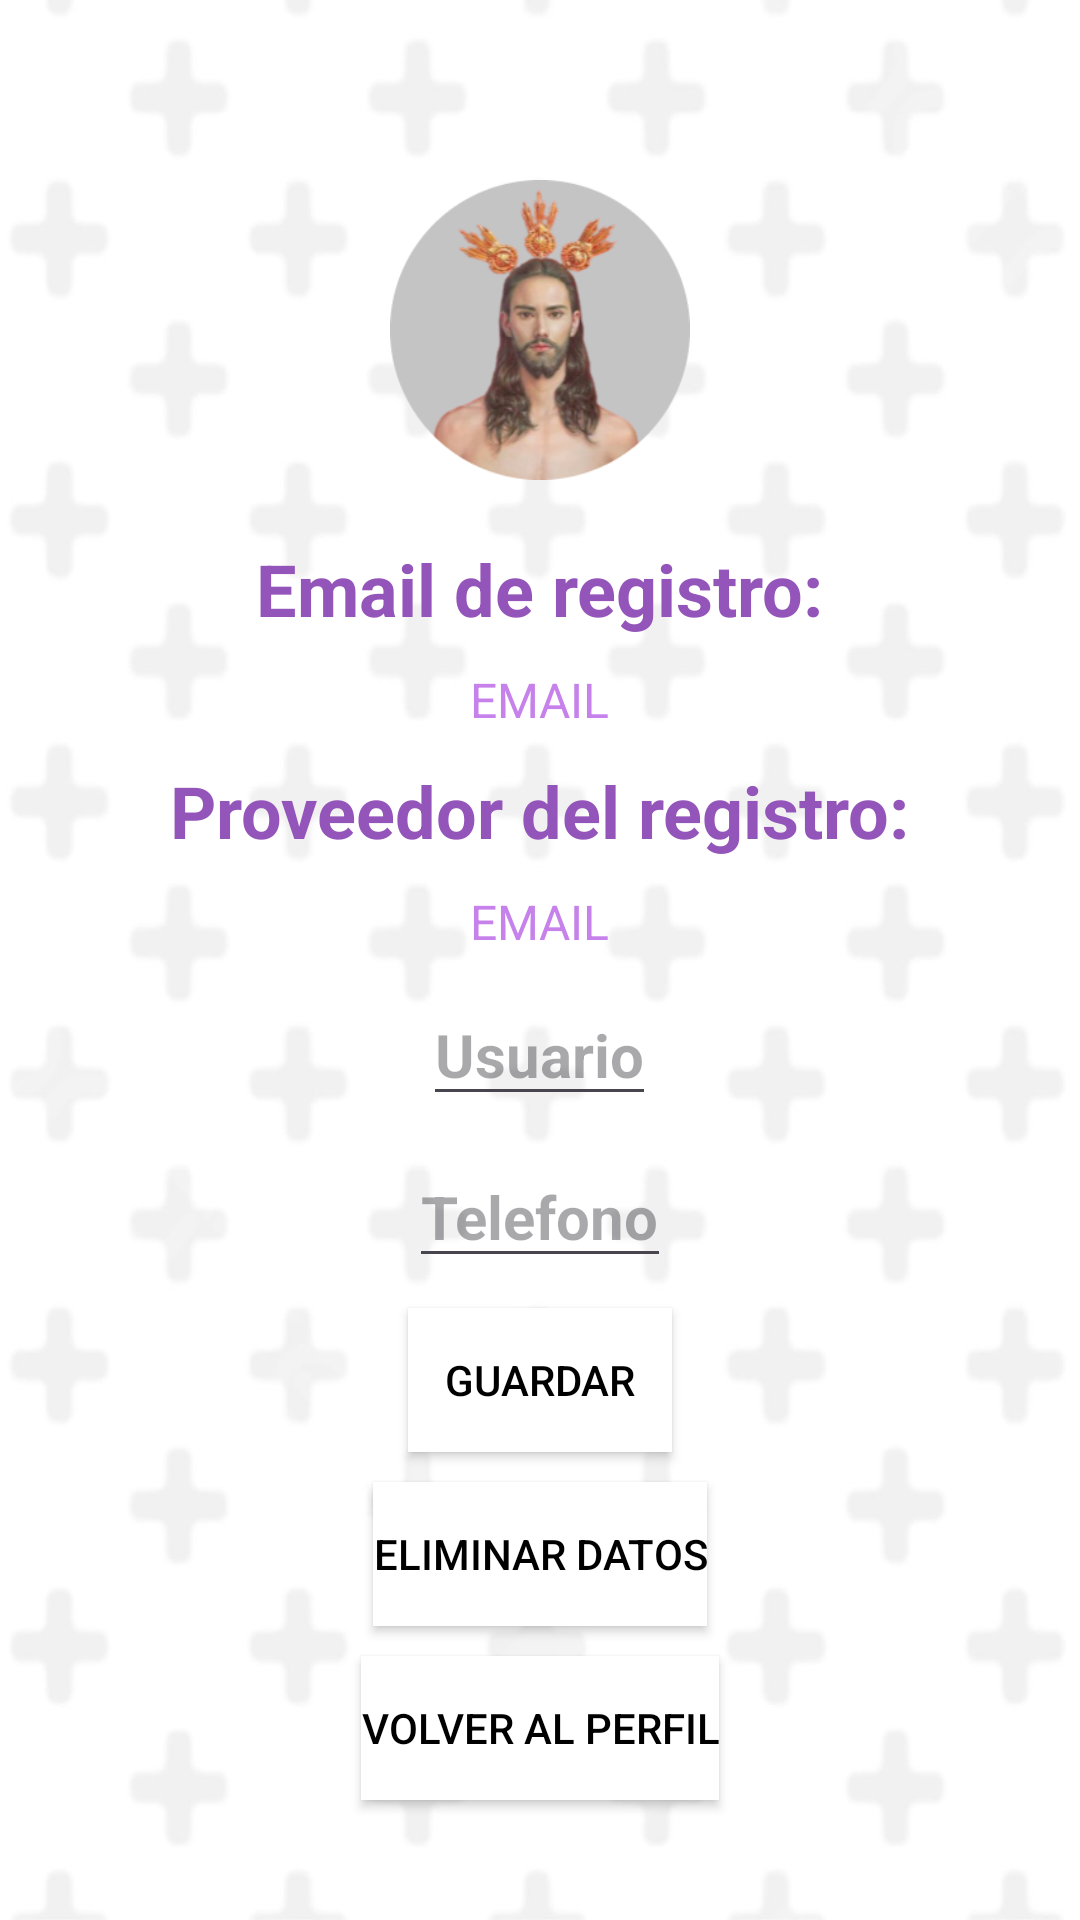

Where icons sit on this 1080px×1920px app screen, as (x1, y1, x2, y2):
perfil: (390, 180, 690, 480)
